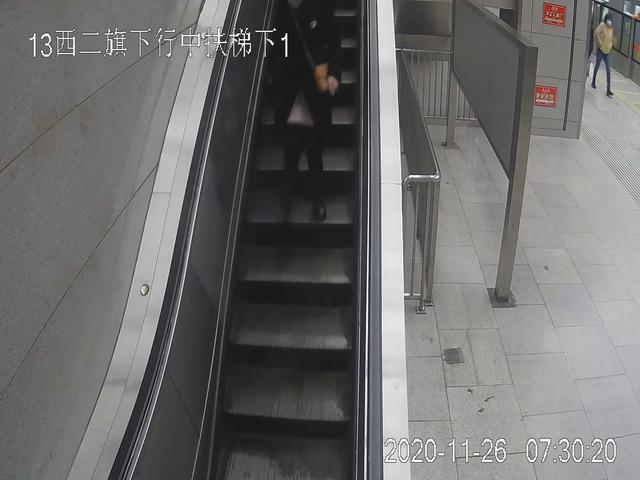person: (270, 1, 342, 225), (592, 15, 615, 96)
